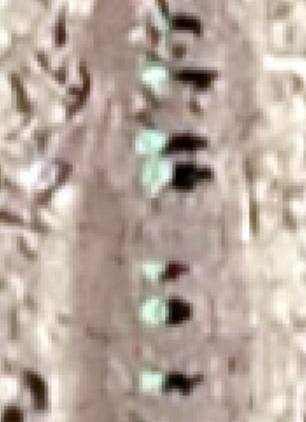cotton: (142, 297, 168, 322), (139, 130, 166, 153), (142, 164, 171, 185), (143, 62, 167, 85), (142, 370, 165, 391), (146, 261, 165, 277), (159, 13, 170, 32)
